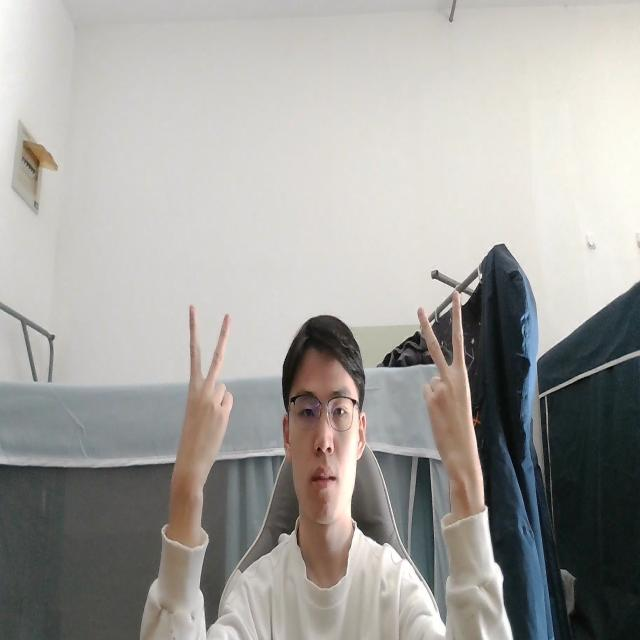yes: (418, 286, 484, 497), (173, 296, 236, 488)
